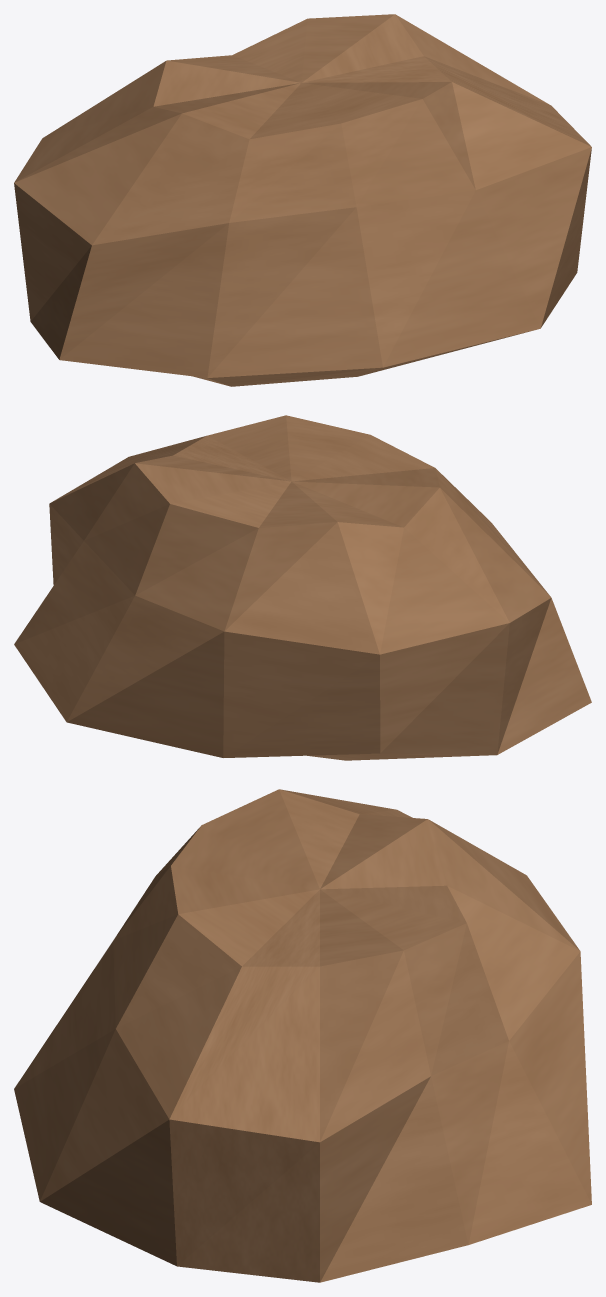
The model's file is SM_CN_Sandstone_A.glb.
The picture shows the model from 3 angles, top to bottom: view 1: azimuth 30°, elevation 25°; view 2: azimuth 150°, elevation 25°; view 3: azimuth 270°, elevation 25°; orthographic projection. The views are drawn at different scales.
Visible parts, largest first — view 1: SM_CN_Sandstone_A; view 2: SM_CN_Sandstone_A; view 3: SM_CN_Sandstone_A.
Part boxes in pixels (bbox=[...]): SM_CN_Sandstone_A: bbox=[14, 14, 591, 386]; SM_CN_Sandstone_A: bbox=[14, 415, 591, 760]; SM_CN_Sandstone_A: bbox=[14, 789, 591, 1282].
Size of the model in its own units: 1.2 by 0.52 by 0.9283.
1 material, 1 textured.
